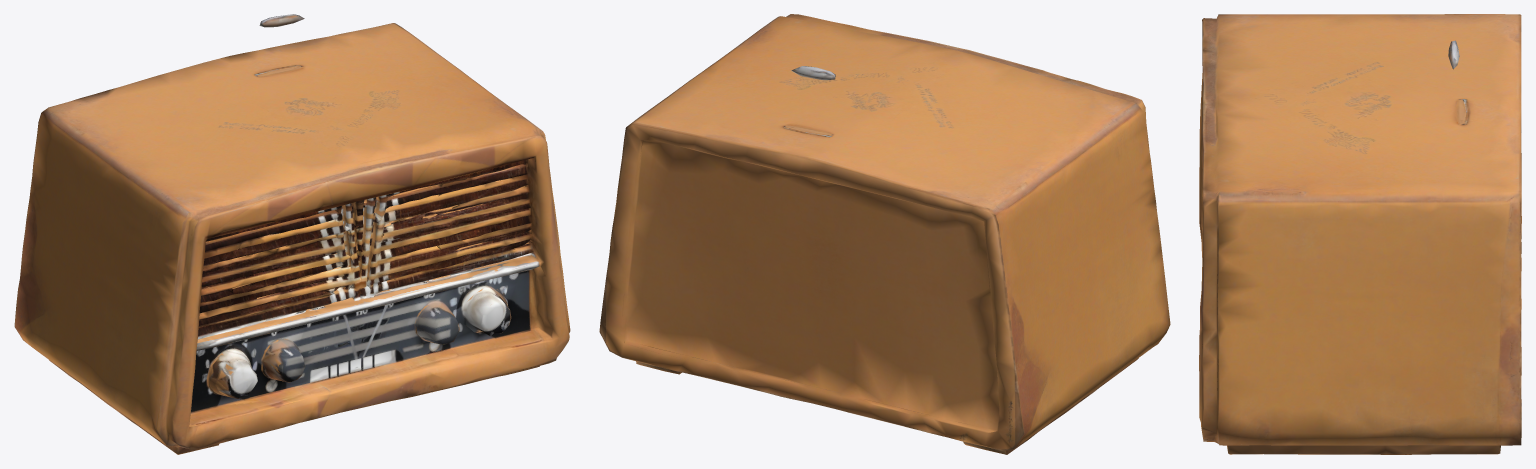
File: Meshy_AI_Faceted_Radio2_0317180303_texture.glb
3 views of the same model, side by side, from view 1: azimuth 30°, elevation 25°; view 2: azimuth 150°, elevation 25°; view 3: azimuth 270°, elevation 25° (orthographic). The views are drawn at different scales.
Size of the model in its own units: 2.01 by 1.44 by 1.29.
1 material, 1 textured.
